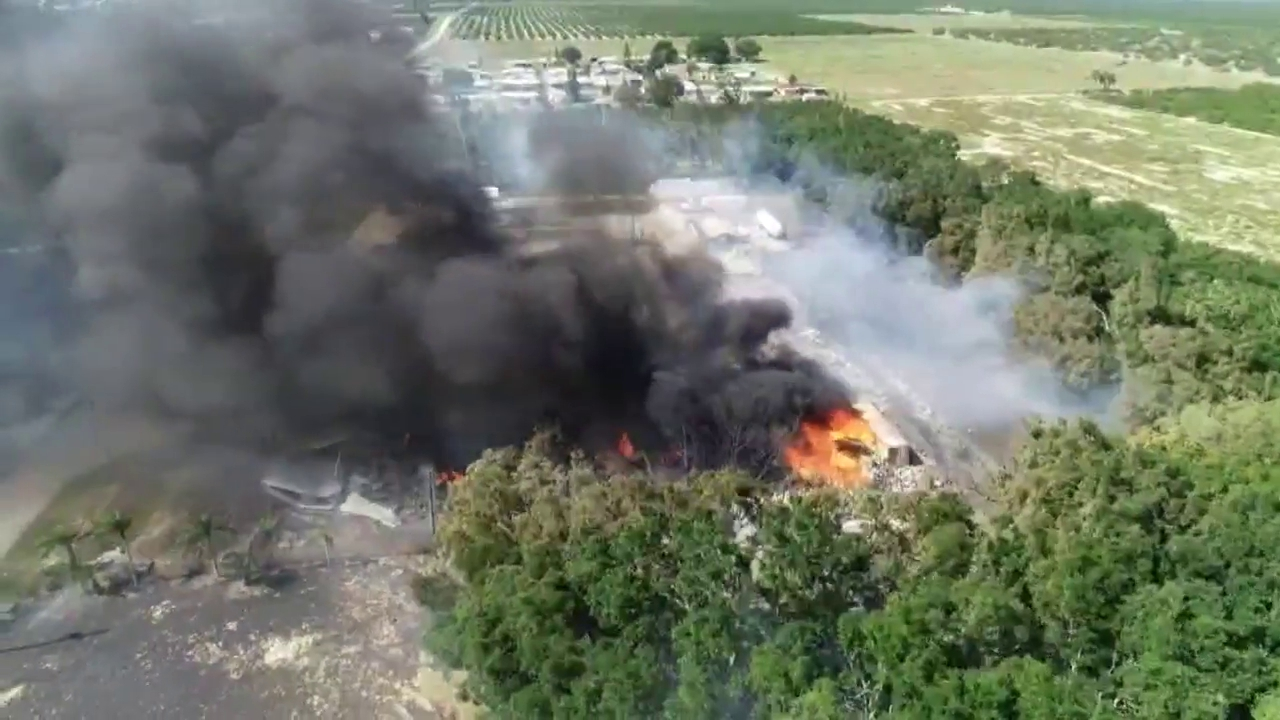forest_fire: (783, 407, 878, 487), (618, 432, 635, 458)
